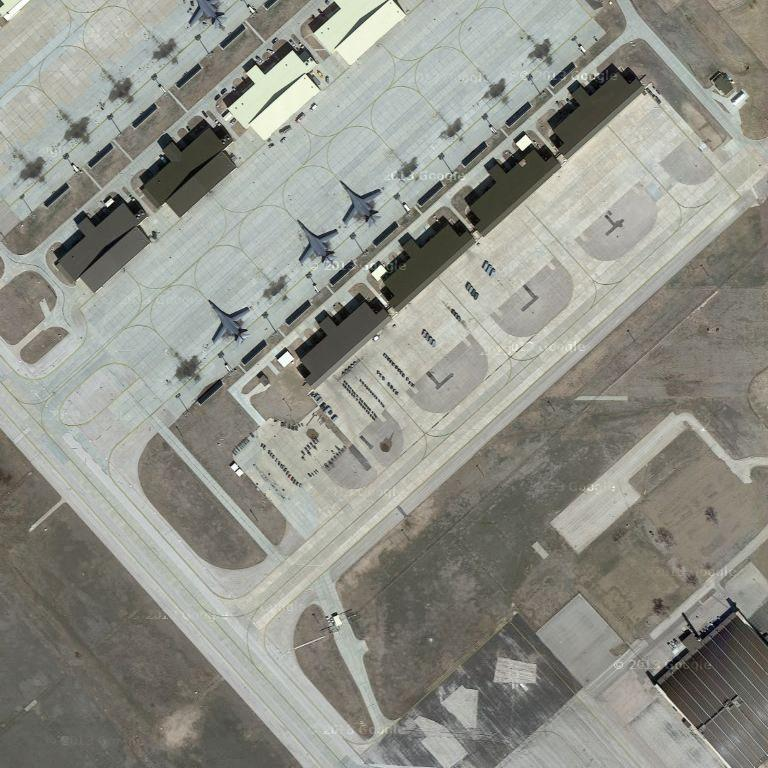B-1B: (338, 178, 384, 230), (293, 217, 341, 266), (205, 299, 250, 343)
